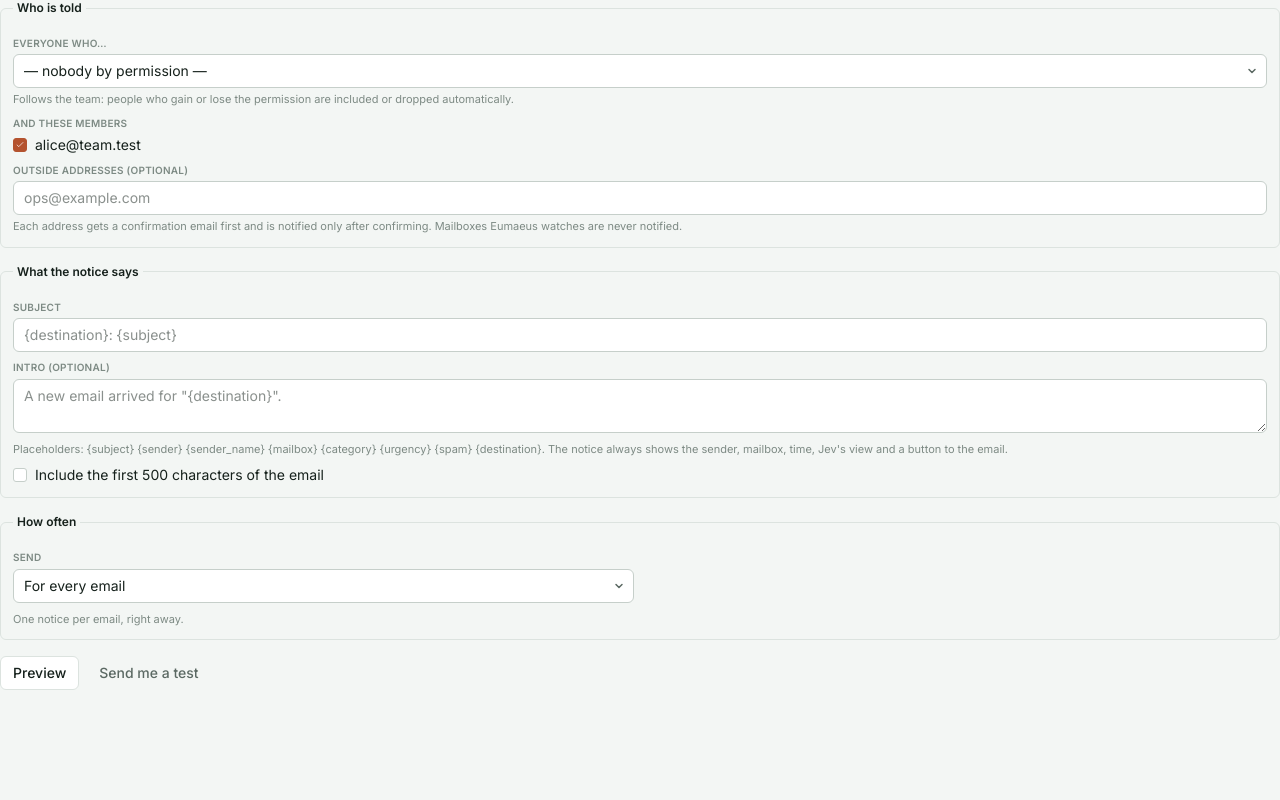
Test case: Email notification channel fields (1.2 O) › previews the notice for the current settings and can mail a test to me
This screenshot has width=1280, height=800.
Click the button "Preview" at (40, 673), box [0,656,79,690]
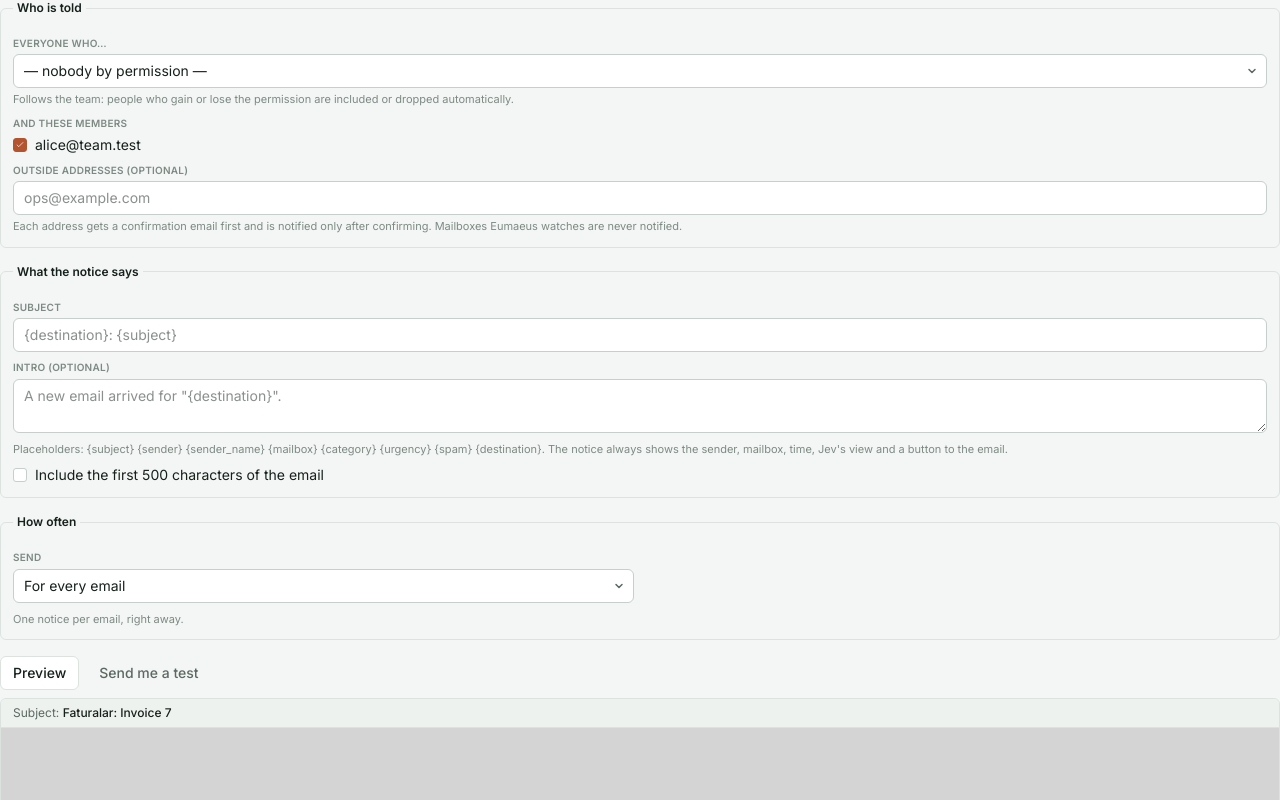
Now the text "Faturalar: Invoice 7" is shown, box [63,705,172,720]
Click the button "Send me a test" at (149, 673), box [87,657,211,689]
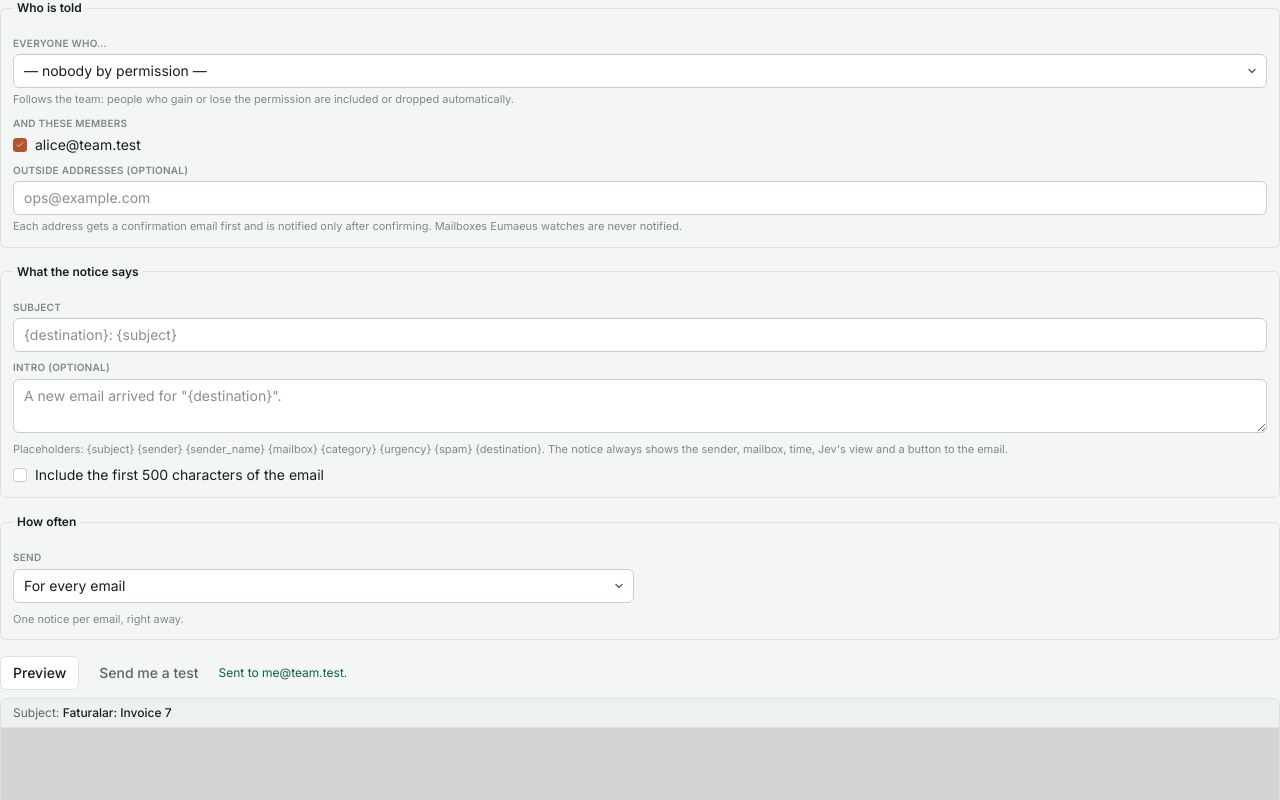
Now the message reads "Sent to me@team.test.", box [219,665,347,680]
